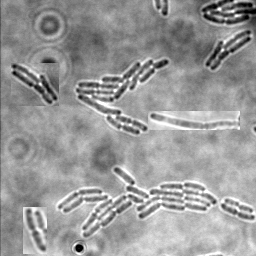Dividing: (148, 111, 240, 130), (23, 207, 47, 254), (219, 204, 255, 222), (223, 199, 253, 215)
Microcolony: (57, 167, 216, 238), (75, 59, 169, 136), (11, 63, 59, 106), (204, 30, 251, 72), (200, 1, 255, 26)
